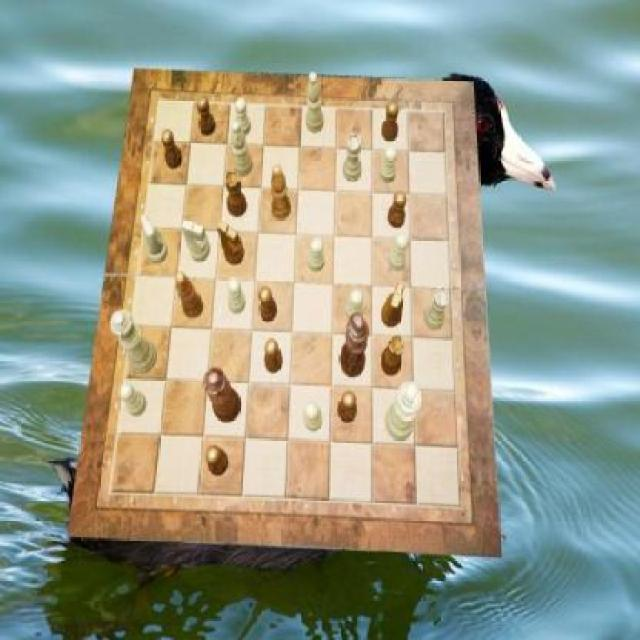bishop: (177, 272, 205, 320), (271, 164, 291, 220)
black-bishop: (338, 312, 368, 378)
black-king: (217, 220, 244, 265), (382, 281, 406, 327)
black-knight: (163, 131, 183, 171), (197, 97, 216, 137), (206, 444, 229, 476), (388, 191, 407, 228), (264, 339, 284, 373), (258, 288, 278, 322), (382, 103, 399, 143), (337, 391, 357, 423)
black-pawn: (203, 368, 241, 424)
black-queen: (225, 171, 248, 217), (382, 334, 404, 376)
black-rook: (231, 122, 254, 176), (306, 74, 324, 134)
white-bishop: (386, 382, 423, 442)
white-king: (140, 214, 168, 263), (183, 218, 211, 261)
white-knight: (120, 382, 148, 416), (388, 232, 408, 270), (235, 97, 252, 137), (228, 278, 245, 314), (346, 289, 364, 323), (379, 146, 396, 182), (308, 238, 325, 272), (303, 402, 322, 432)
white-pawn: (110, 309, 158, 375)
white-queen: (424, 286, 450, 330), (343, 134, 361, 181)
